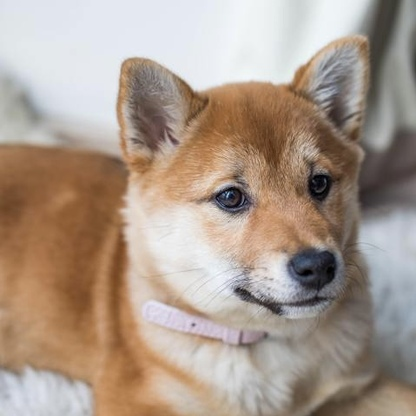shiba: (2, 29, 416, 416)
